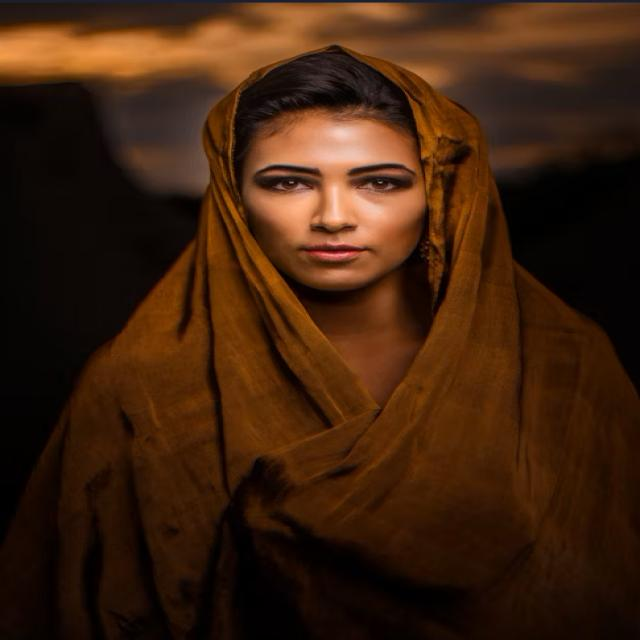Edited images: (66, 42, 611, 640)
